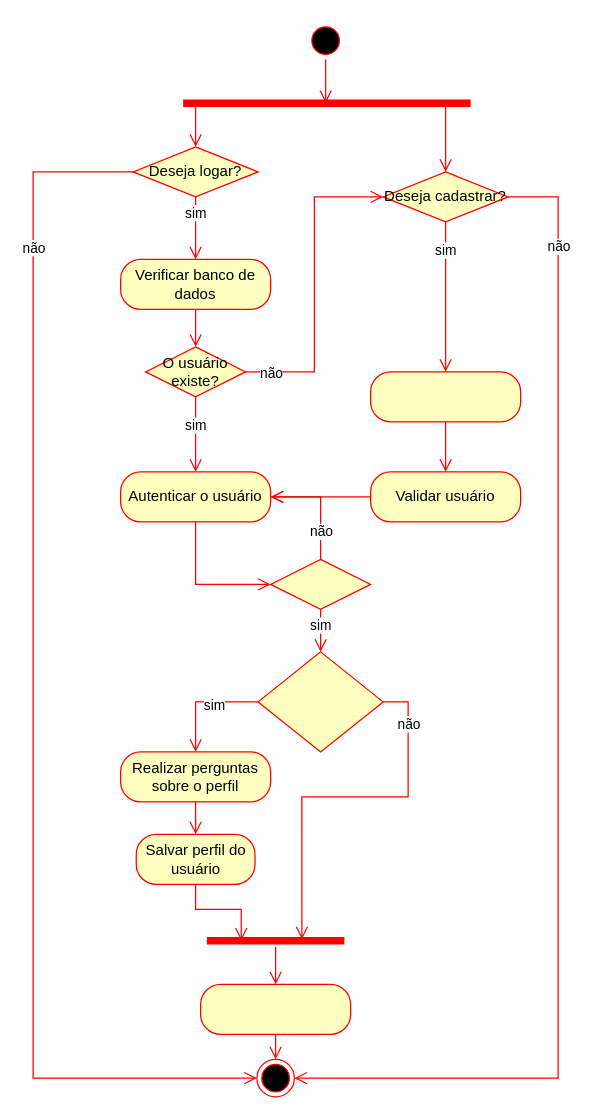
Image size: 593x1119. Some labels were removed from this diagram. Each missing label, with the box of its shape:
Cadastrar usuário: (369, 371, 521, 422)
Entrar no painél: (199, 983, 351, 1034)
O login é valido?: (269, 558, 371, 609)
É a primeira entrada do usuário?: (257, 651, 383, 752)
